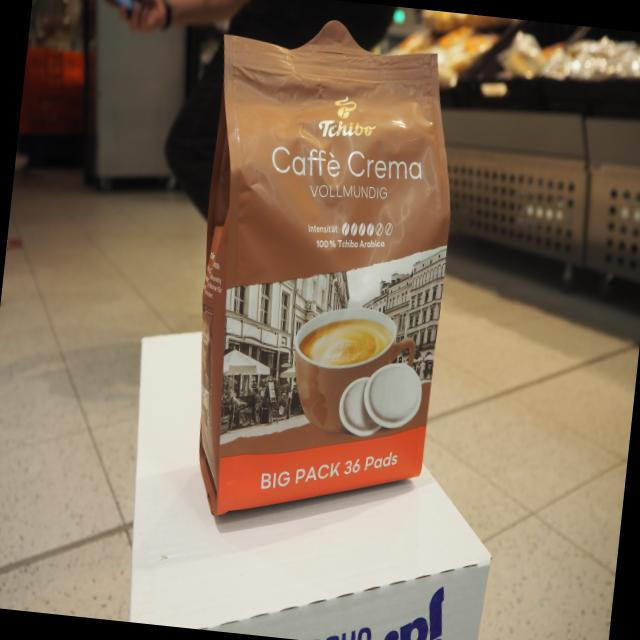CC Vollmundig: (187, 5, 473, 537)
